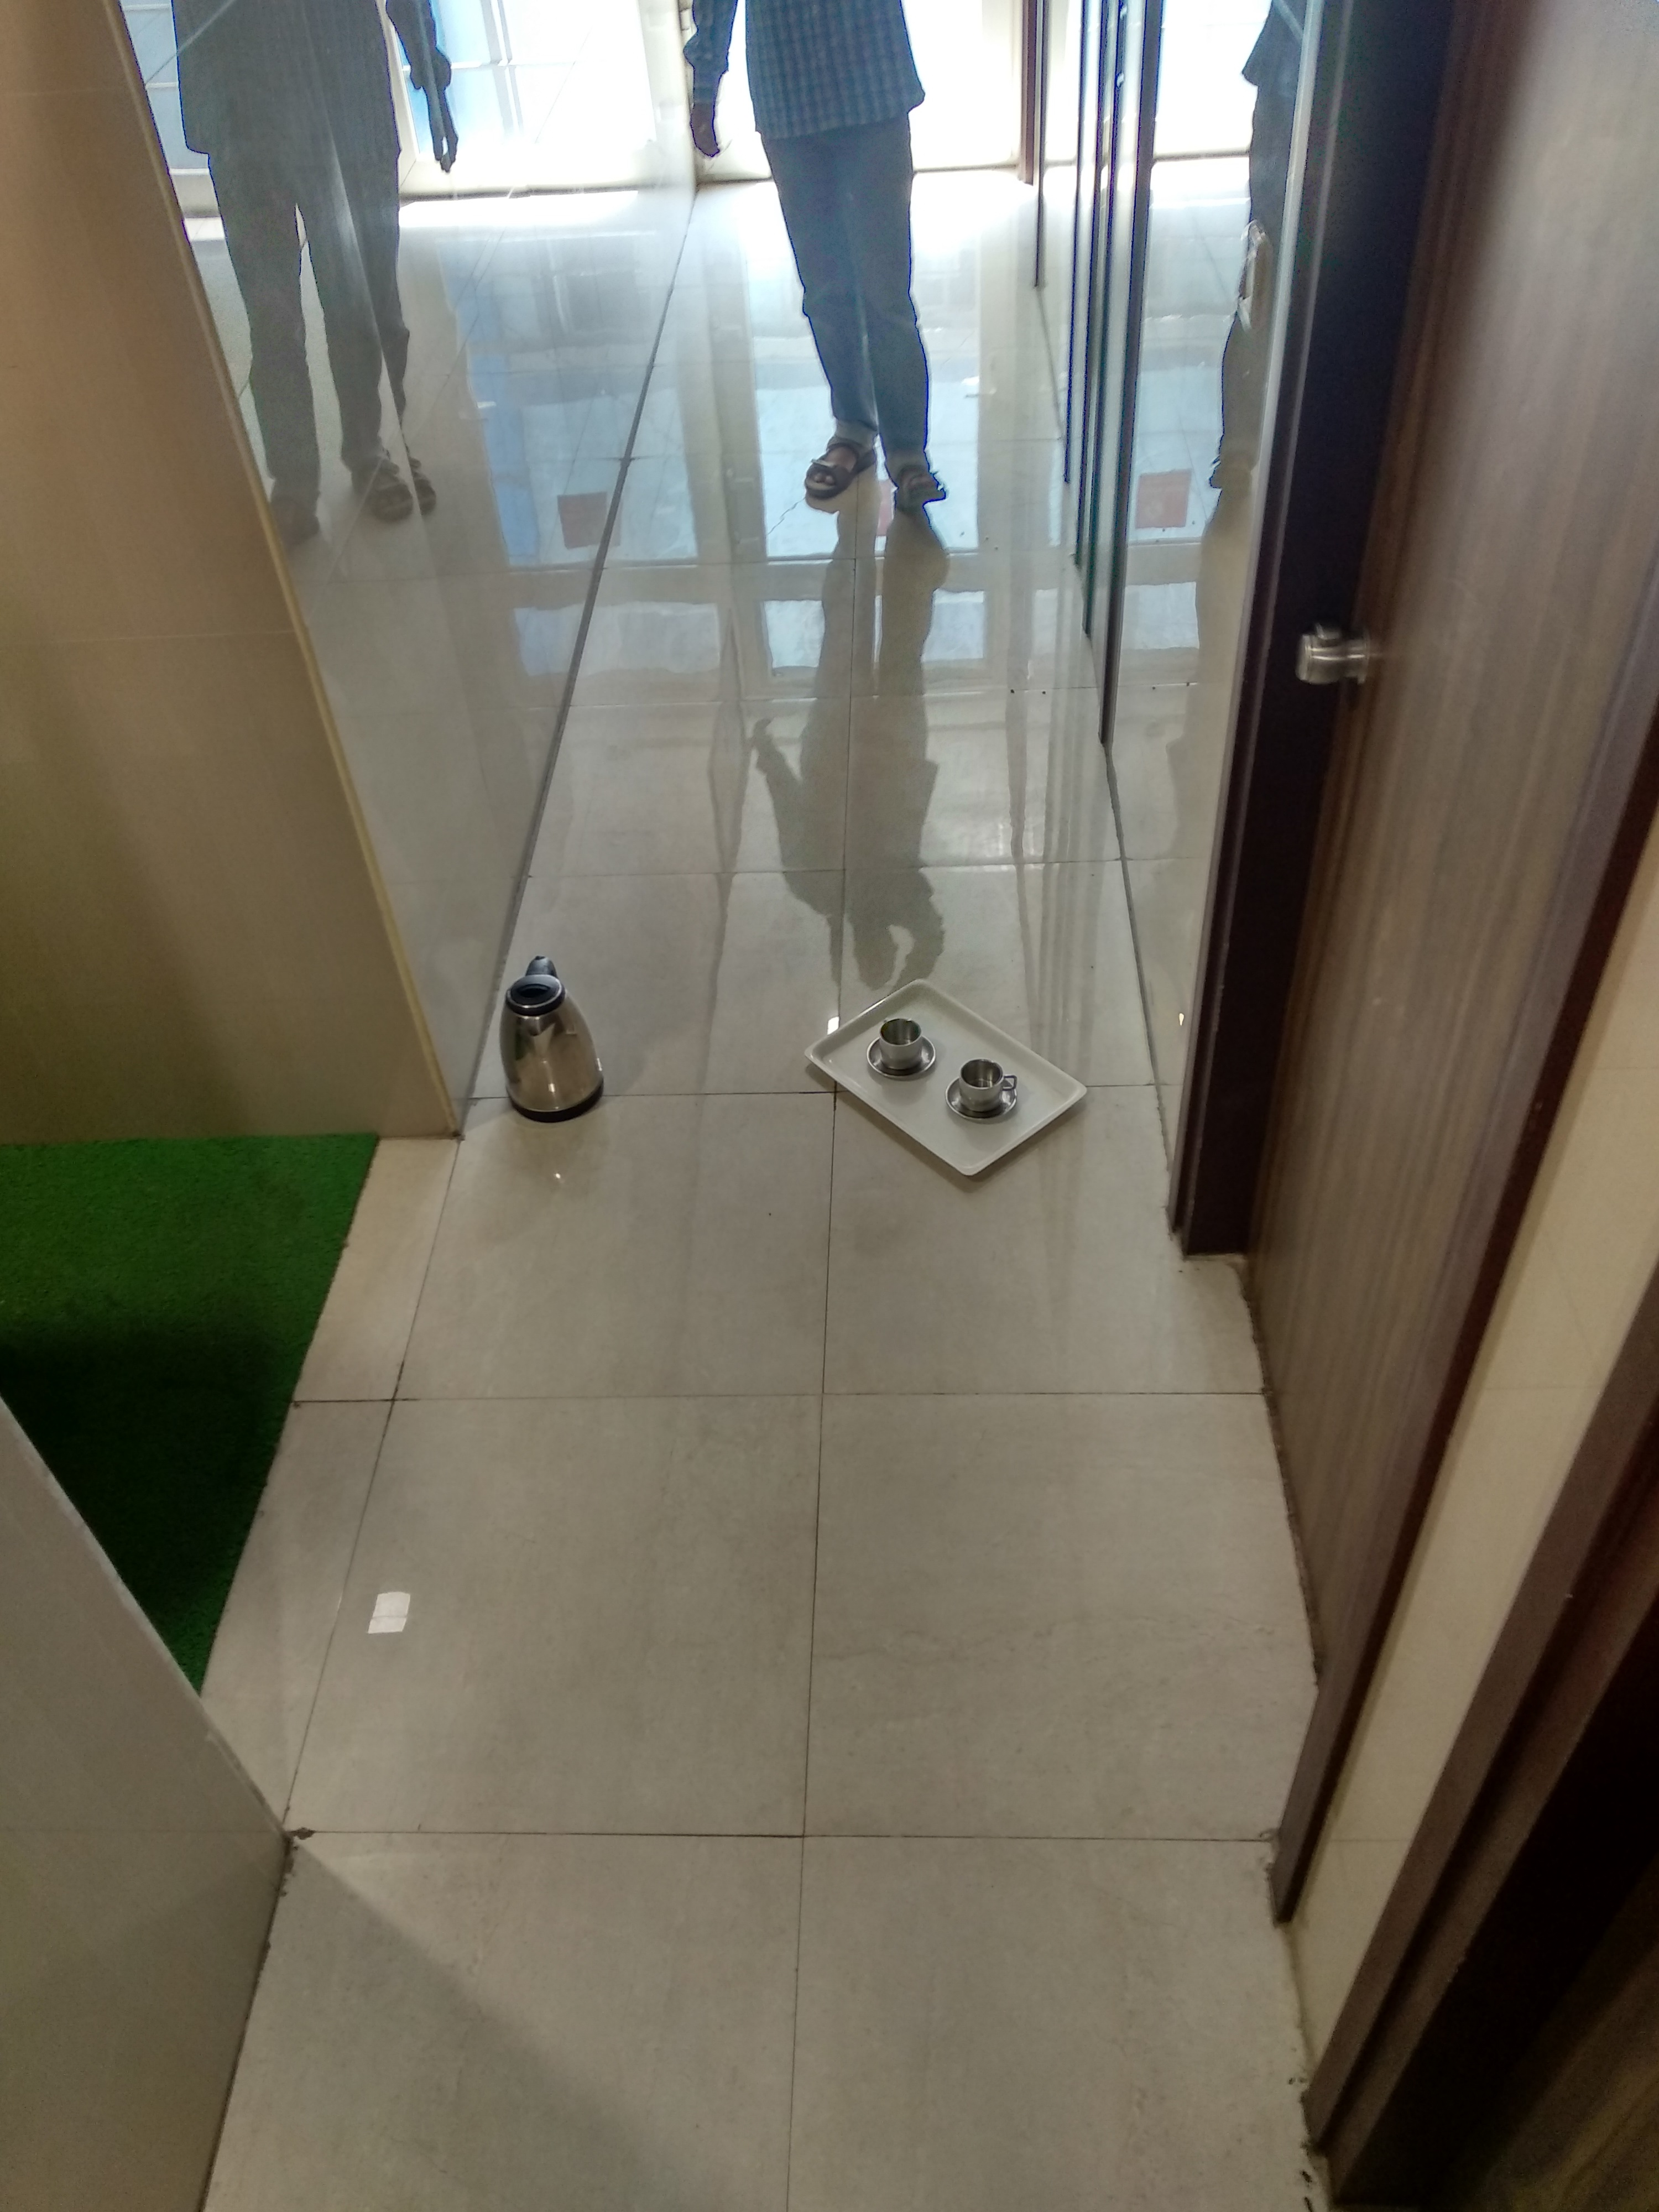CUP: (864, 1021, 939, 1080), (950, 1061, 1019, 1118)
JUG: (498, 965, 610, 1122)
